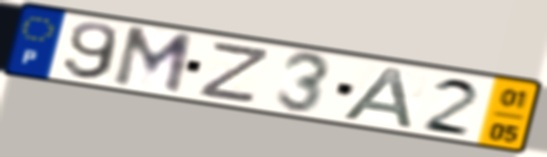2: (416, 77, 485, 139)
3: (272, 48, 334, 119)
9: (61, 21, 123, 82)
A: (338, 64, 418, 132)
M: (108, 24, 197, 98)
Z: (193, 41, 275, 106)
